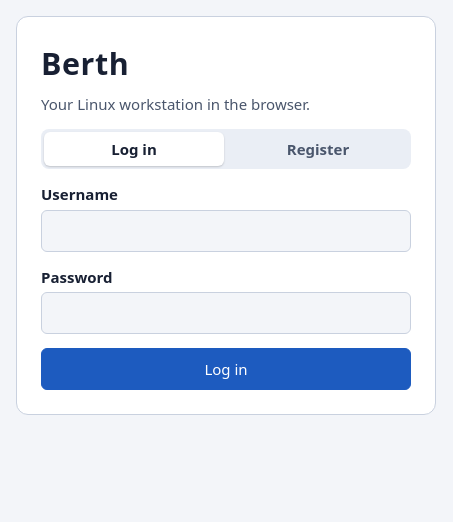
register › shows the username and password rules
The image size is (453, 522).
Click the tab "Register": coordinates (318, 149) [228,132,408,166]
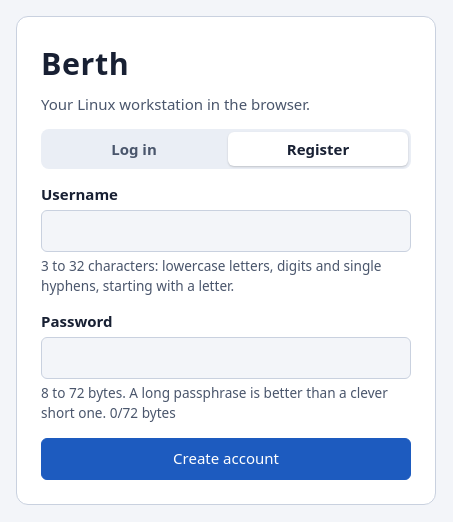
Check: the text "3 to 32 characters" is shown, box [41,256,382,295]
Check: the text "8 to 72 bytes" is shown, box [41,383,388,422]
